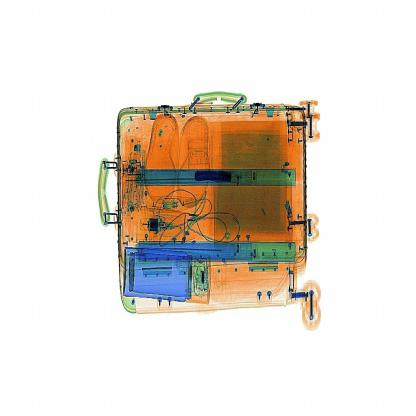knife: (188, 160, 239, 190)
